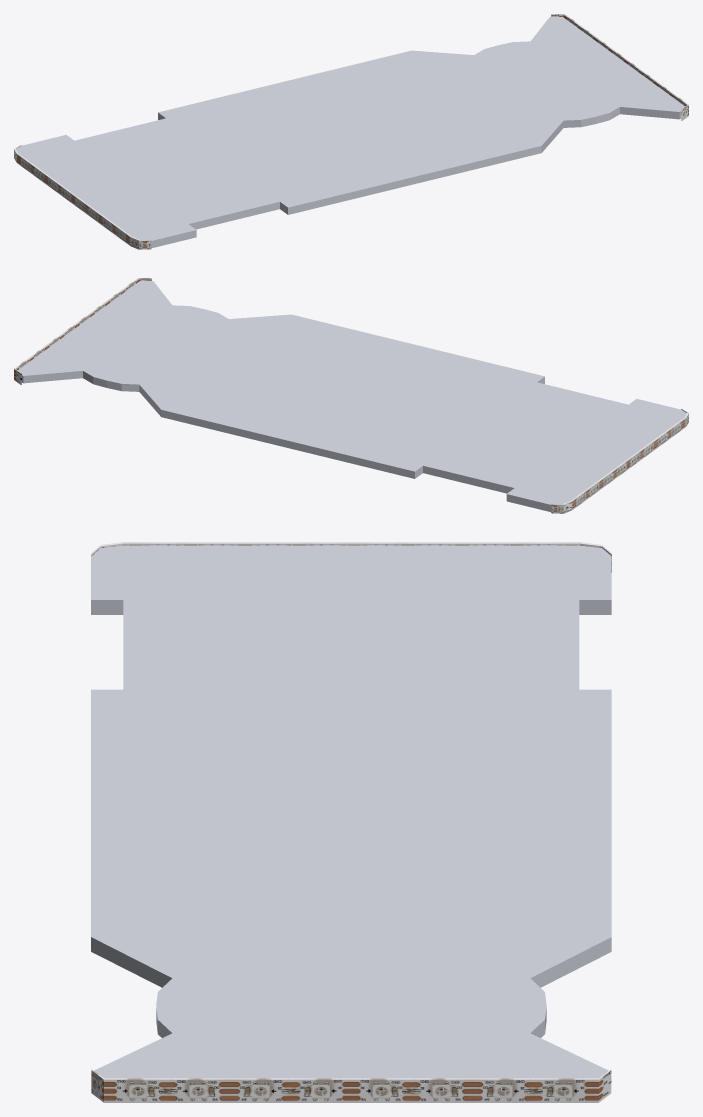
The model's file is board.dae.
3 views of the same model, one above another, from view 1: azimuth 30°, elevation 25°; view 2: azimuth 150°, elevation 25°; view 3: azimuth 270°, elevation 25° (orthographic). The views are drawn at different scales.
Parts seen in each view (by area): view 1: Board_Low, LED, LED_001; view 2: Board_Low, LED, LED_001; view 3: Board_Low, LED_001, LED.
Part boxes in pixels (left/top/right/bottom): Board_Low: left=16, top=17, right=684, bottom=248; LED: left=14, top=145, right=151, bottom=249; LED_001: left=551, top=14, right=688, bottom=120; Board_Low: left=18, top=280, right=686, bottom=511; LED: left=551, top=409, right=688, bottom=513; LED_001: left=14, top=278, right=151, bottom=384; Board_Low: left=91, top=545, right=611, bottom=1078; LED_001: left=91, top=1069, right=611, bottom=1102; LED: left=91, top=542, right=611, bottom=572.
Size of the model in its own units: 0.3927 by 0.16 by 0.00784.
Materials: 2 (1 with a texture image).
